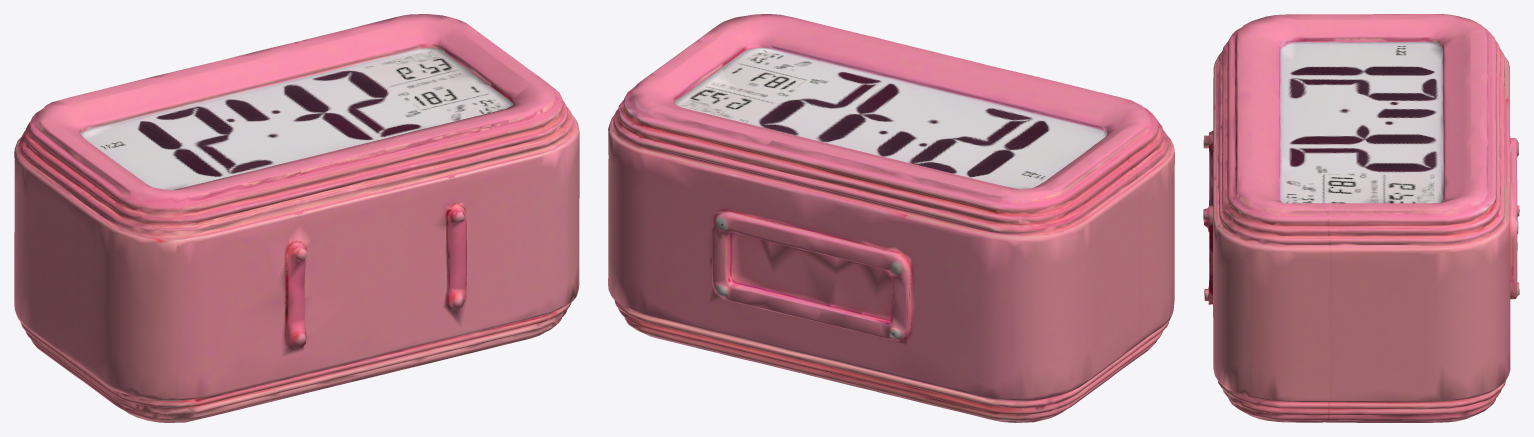
Rendered from cesio.fbx.
The picture shows the model from 3 angles, left to right: view 1: azimuth 30°, elevation 25°; view 2: azimuth 150°, elevation 25°; view 3: azimuth 270°, elevation 25°; orthographic projection. The views are drawn at different scales.
Parts seen in each view (by area): view 1: Mesh_0.030; view 2: Mesh_0.030; view 3: Mesh_0.030.
Boxes of the visible parts, x1,y1,x2,y2 form: Mesh_0.030: (14, 14, 579, 422); Mesh_0.030: (608, 14, 1174, 422); Mesh_0.030: (1203, 14, 1519, 422).
Bounding box in the file's own units: 0.3383 × 0.1566 × 0.2094.
1 material, 1 textured.
